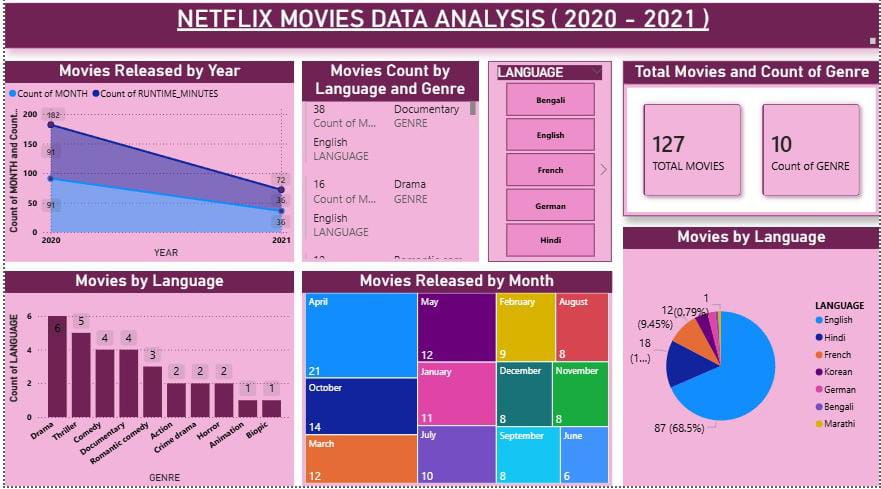

The page's visual inventory and layout, read from the dashboard file:
{"tool":"powerbi","page":{"name":"Page 1","canvas":[1280,720],"ordinal":0},"visuals":[{"type":"stackedAreaChart","title":"Movies Released by Year","fields":{"Y":["CountNonNull(Table1.MONTH)","CountNonNull(Table1.RUNTIME_MINUTES)"],"Category":["Table1.YEAR"]},"box":[0,97.4,423.3,294],"z":0},{"type":"clusteredColumnChart","title":"Movies by Language","fields":{"Category":["Table1.GENRE"],"Y":["Count(Table1.LANGUAGE)"]},"box":[0,404.8,423.3,315.8],"z":1000},{"type":"multiRowCard","title":"Movies Count by Language and Genre","fields":{"Values":["Table1.MOVIES","Table1.GENRE","Table1.LANGUAGE"]},"box":[435.1,97.4,258.7,294],"z":2000},{"type":"cardVisual","title":"Total Movies and Count of Genre","fields":{"Data":["Table1.TOTAL MOVIES","Count(Table1.GENRE)"]},"box":[903.7,97.4,376.3,226.8],"z":3000},{"type":"pieChart","title":"Movies by Language","fields":{"Category":["Table1.LANGUAGE"],"Y":["CountNonNull(Table1.GENRE)"]},"box":[903.7,341,376.3,379.6],"z":4000},{"type":"treemap","title":"Movies Released by Month","fields":{"Group":["Table1.MONTH"],"Values":["CountNonNull(Table1.MOVIES)"]},"box":[435.1,404.8,453.5,315.8],"z":5000},{"type":"textbox","title":"NETFLIX MOVIES DATA ANALYSIS ( 2020 - 2021 )","box":[0,13.4,1280,65.5],"z":6000},{"type":"slicer","fields":{"Values":["Table1.LANGUAGE"]},"box":[707.2,97.4,181.4,294],"z":7000}]}

Visuals, with their boxes in screenshot pixels (x1, y1, x2, y2), scaled from the page's 1280x720 canvas onto the 881x489 screenshot:
"Movies Released by Year" stackedAreaChart: [0, 66, 291, 266]
"Movies by Language" clusteredColumnChart: [0, 275, 291, 488]
"Movies Count by Language and Genre" multiRowCard: [299, 66, 478, 266]
"Total Movies and Count of Genre" cardVisual: [622, 66, 880, 220]
"Movies by Language" pieChart: [622, 232, 880, 488]
"Movies Released by Month" treemap: [299, 275, 612, 488]
"NETFLIX MOVIES DATA ANALYSIS ( 2020 - 2021 )" textbox: [0, 9, 880, 54]
slicer - Table1.LANGUAGE: [487, 66, 612, 266]
